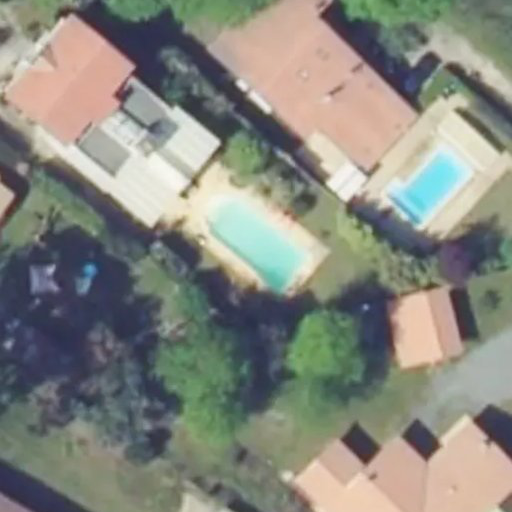pool: (192, 218, 311, 255)
